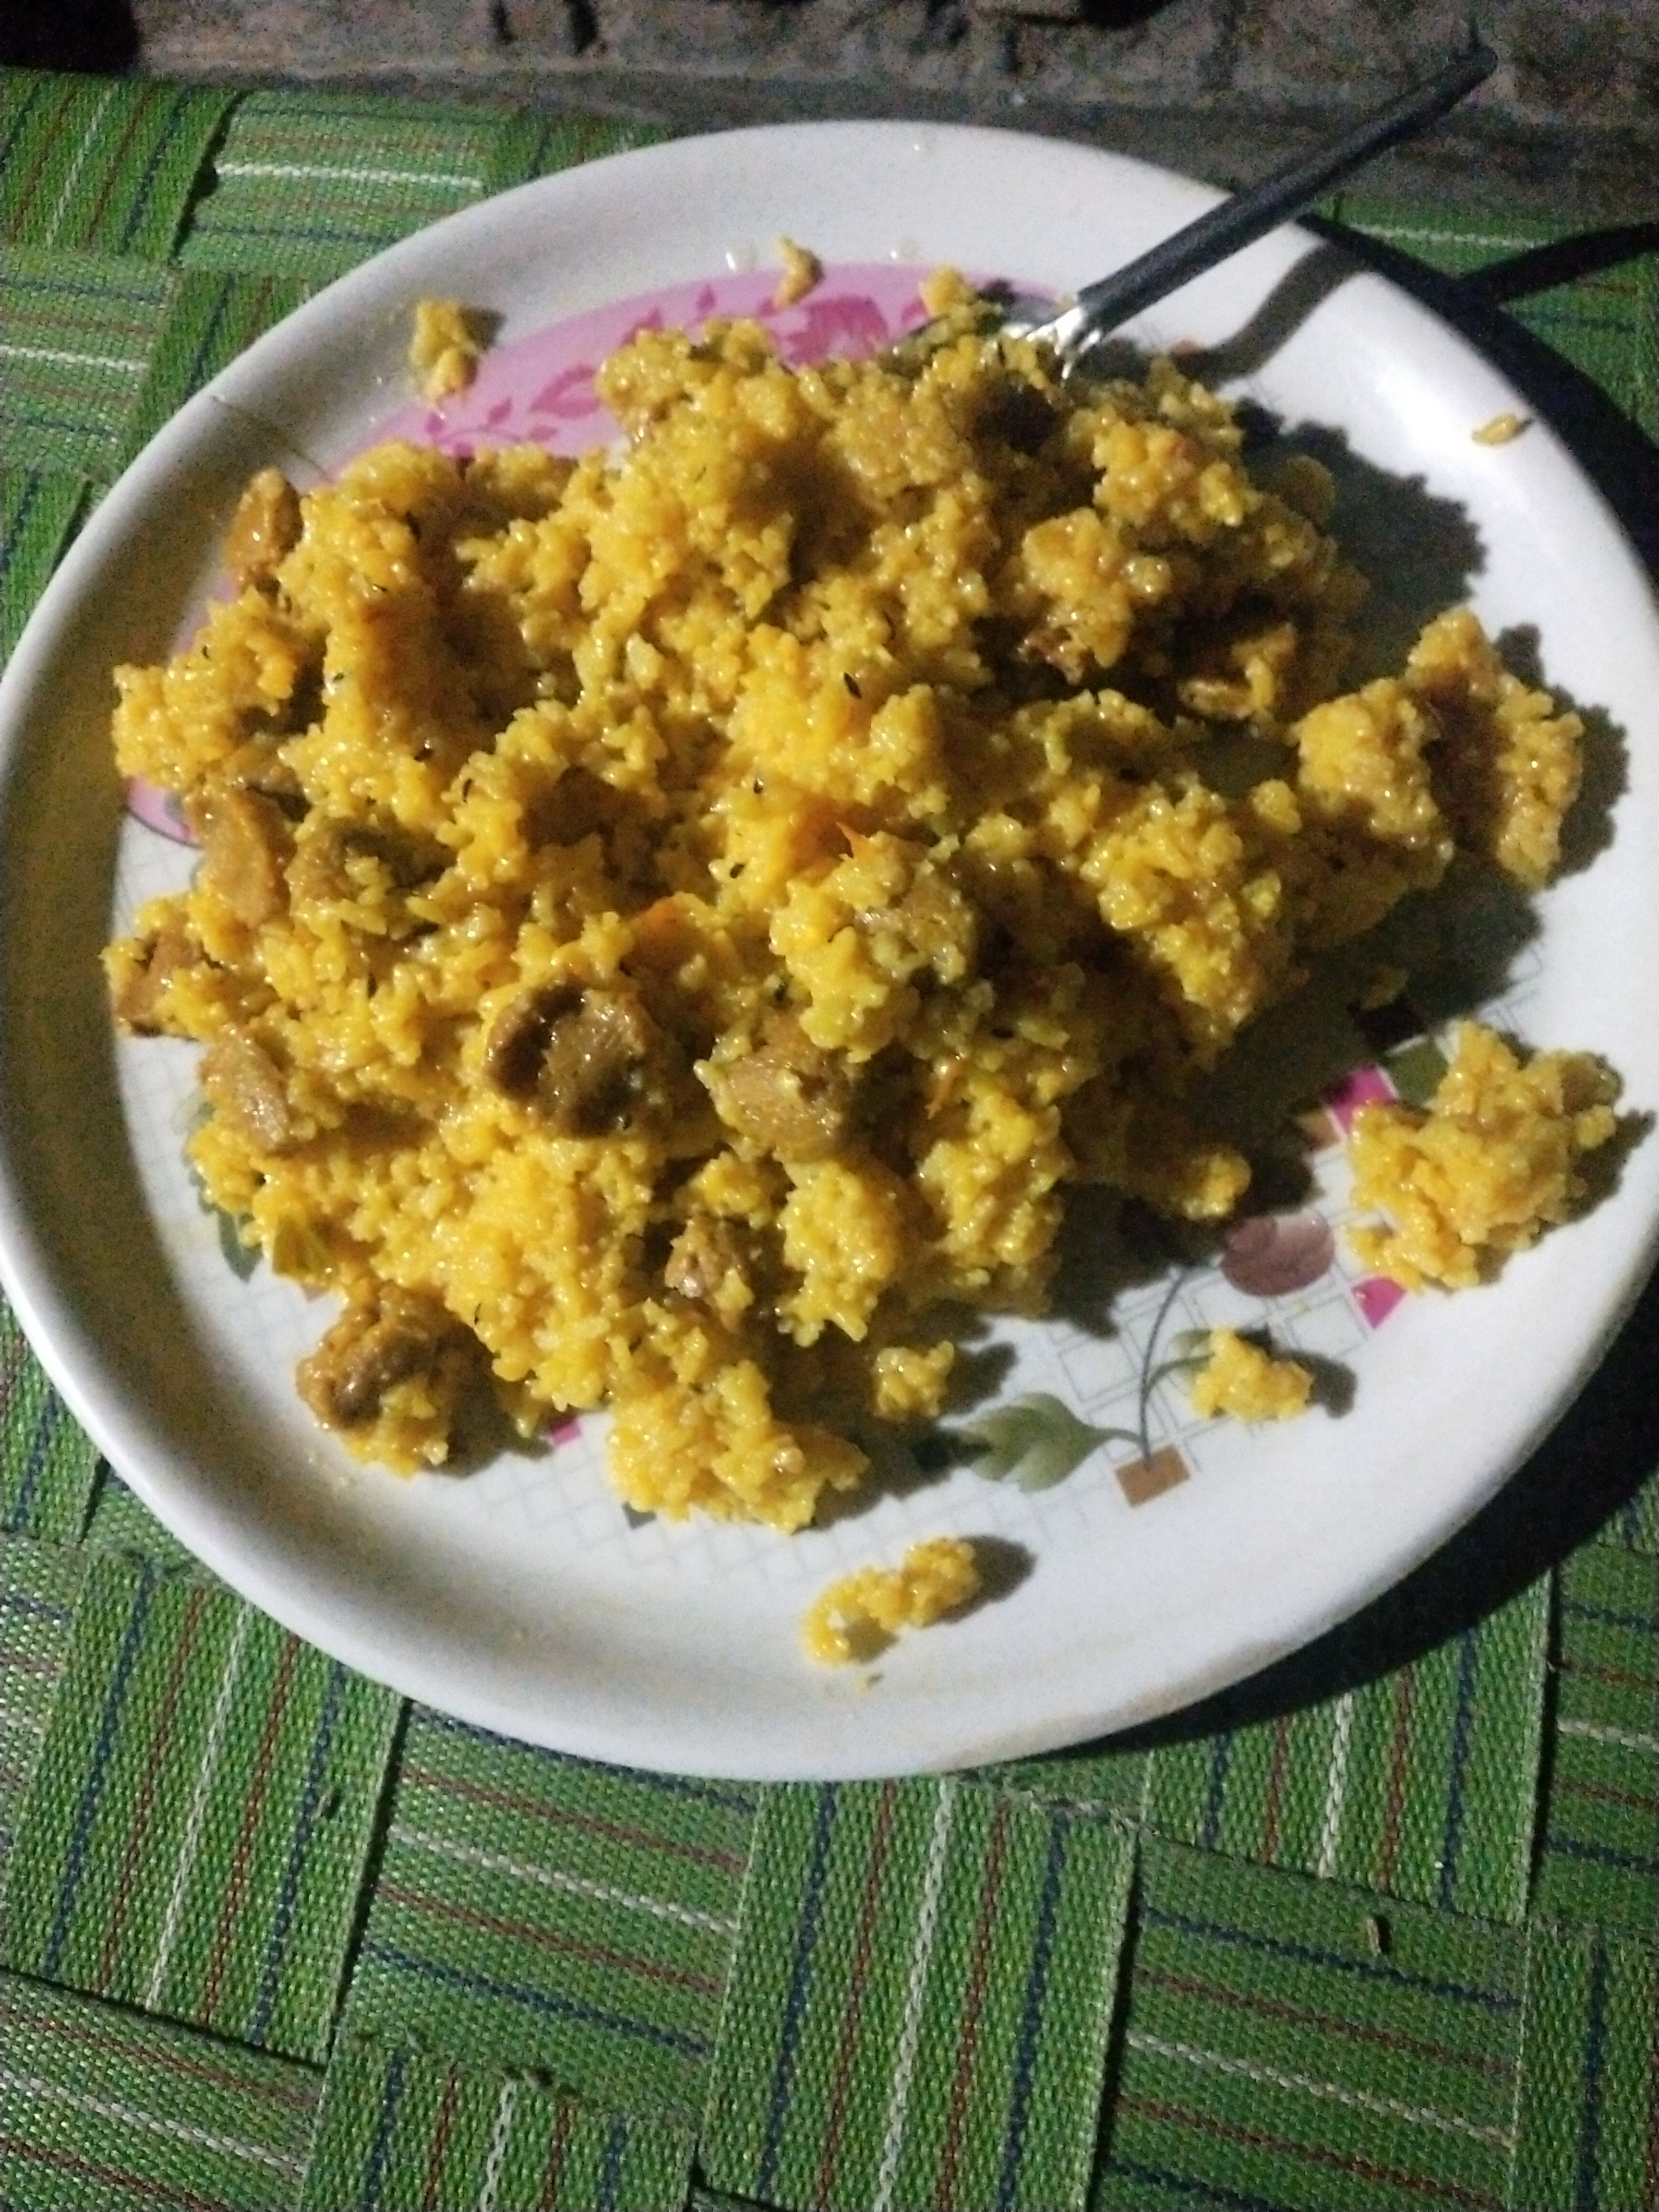food: (101, 239, 1638, 1672)
